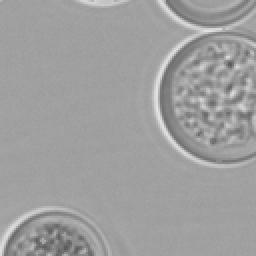picoshell: (154, 32, 254, 166), (0, 206, 110, 254), (158, 0, 254, 30), (78, 0, 128, 6)
